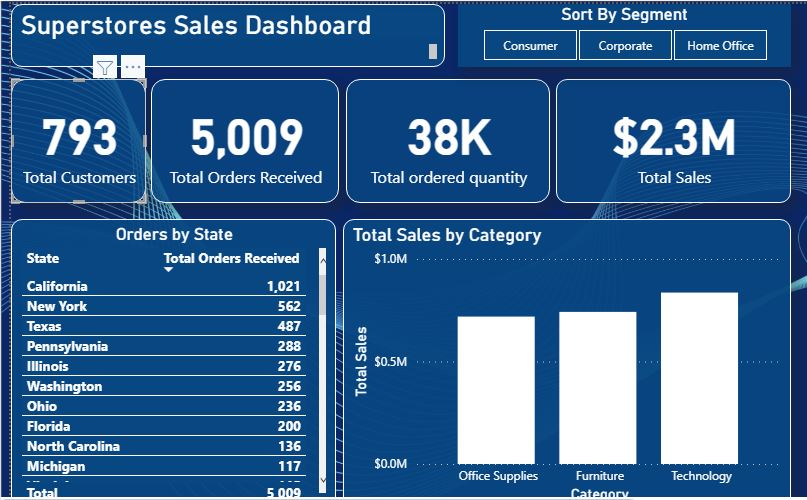

What the dashboard file says about the page in this screenshot:
{"tool":"powerbi","page":{"name":"Page 1","canvas":[1280,720],"ordinal":0},"visuals":[{"type":"textbox","title":"Superstores  Sales Dashboard","box":[0,0,434,63],"z":0},{"type":"card","fields":{"Values":["Sheet1.Total Costomers"]},"box":[0,75,135,124],"z":1000},{"type":"card","fields":{"Values":["Sheet1.Total Orders"]},"box":[140,75,188,124],"z":2000},{"type":"card","fields":{"Values":["Sheet1.Total ordered quantity"]},"box":[335,75,204,124],"z":3000},{"type":"card","fields":{"Values":["Sheet1.Total Sales"]},"box":[545,75,235,124],"z":4000},{"type":"tableEx","title":"Orders by State","fields":{"Values":["Sheet1.State","Sheet1.Total Orders"]},"box":[0,215,325,291],"z":5000},{"type":"columnChart","fields":{"Category":["Sheet1.Category","Sheet1.Sub-Category"],"Y":["Sheet1.Total Sales"]},"box":[332,215,448,291],"z":6000},{"type":"slicer","title":"Sort By Segment","fields":{"Values":["Sheet1.Segment"]},"box":[447,0,333,63],"z":7000}]}

Visuals, with their boxes on the page's 1280x720 design canvas (x1, y1, x2, y2). These are canvas units, not pixel positions in the 807x500 screenshot, which may show the page scaled, cropped or inside an application window:
"Superstores  Sales Dashboard" textbox: Rect(0, 0, 434, 63)
card - Sheet1.Total Costomers: Rect(0, 75, 135, 199)
card - Sheet1.Total Orders: Rect(140, 75, 328, 199)
card - Sheet1.Total ordered quantity: Rect(335, 75, 539, 199)
card - Sheet1.Total Sales: Rect(545, 75, 780, 199)
"Orders by State" tableEx: Rect(0, 215, 325, 506)
columnChart - Sheet1.Category x Sheet1.Sub-Category: Rect(332, 215, 780, 506)
"Sort By Segment" slicer: Rect(447, 0, 780, 63)
